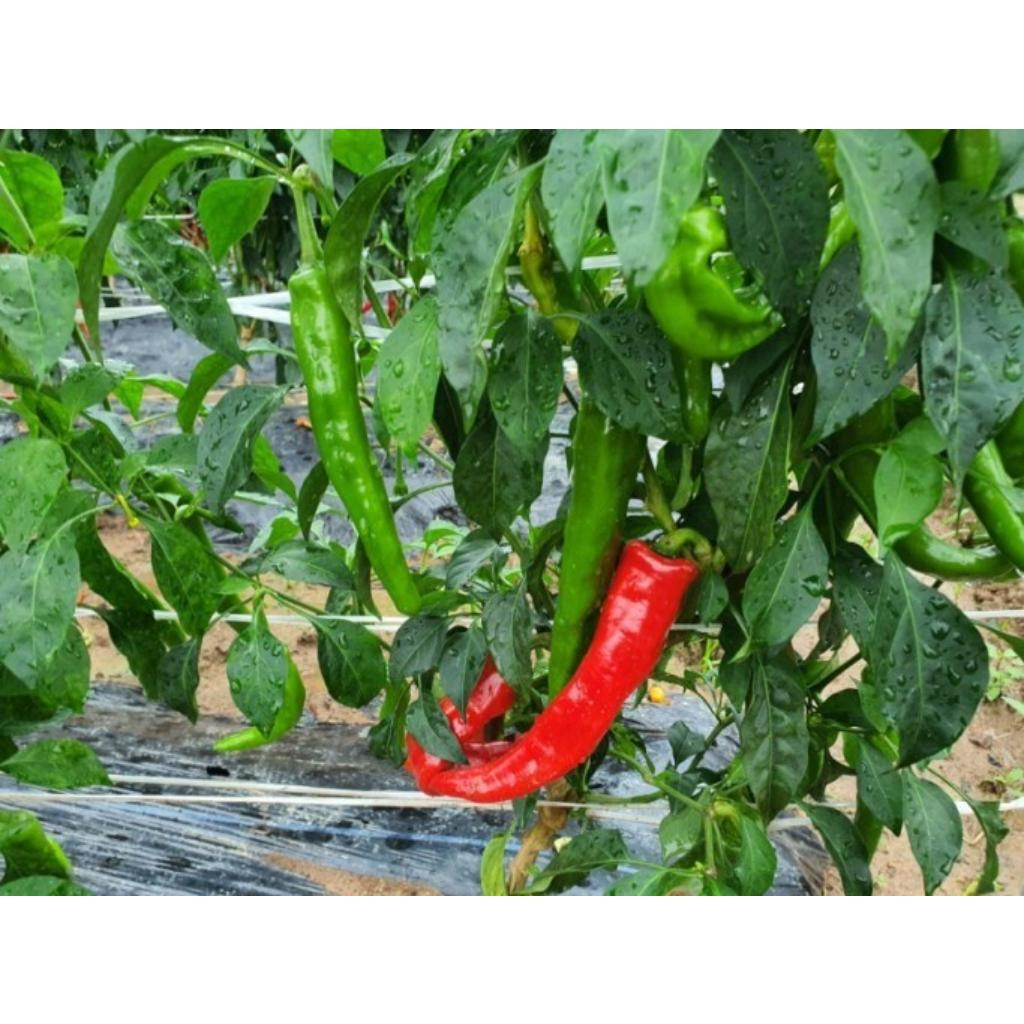chili: (426, 539, 696, 798)
